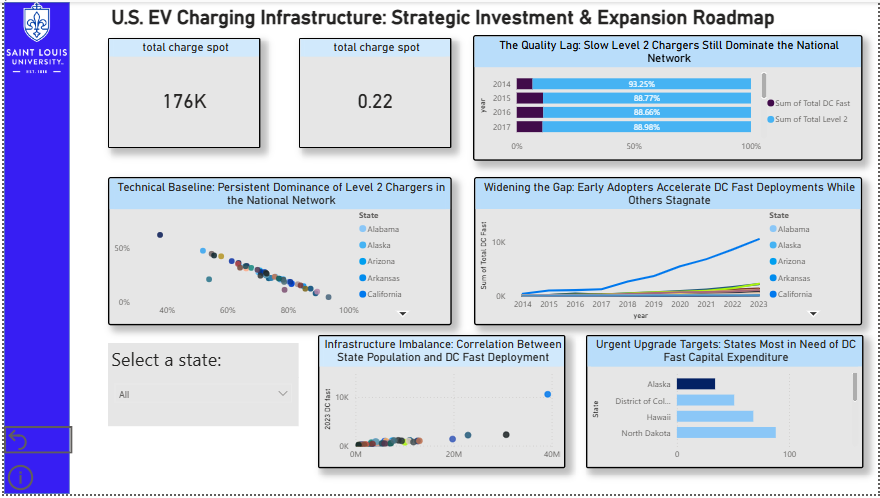

Layout of this report page (visuals, bound fields, positions):
{"tool":"powerbi","page":{"name":"Dashboard","canvas":[1280,720],"ordinal":1},"visuals":[{"type":"hundredPercentStackedBarChart","title":"The Quality Lag: Slow Level 2 Chargers Still Dominate the National Network","fields":{"Category":["RQ2_Tech_Evolution_Table.year"],"Y":["Sum(RQ2_Tech_Evolution_Table.Total DC Fast)","Sum(RQ2_Tech_Evolution_Table.Total Level 2)"]},"box":[685.9,48,569.8,184.3],"z":0},{"type":"lineChart","title":"Widening the Gap: Early Adopters Accelerate DC Fast Deployments While Others Stagnate","fields":{"Category":["RQ2_Tech_Evolution_Table.year"],"Y":["Sum(RQ2_Tech_Evolution_Table.Total DC Fast)"],"Series":["RQ2_Tech_Evolution_Table.State"]},"box":[687.5,255.5,568.3,216.8],"z":1000},{"type":"clusteredBarChart","title":"Urgent Upgrade Targets: States Most in Need of DC Fast Capital Expenditure","fields":{"Category":["Q1_station.State"],"Y":["Sum(Q1_station.2023 DC fast)"]},"box":[851.6,487.7,405.7,195.1],"z":2000},{"type":"textbox","box":[152,0,984,48],"z":3000},{"type":"shape","box":[0,0,96,720],"z":4000},{"type":"image","box":[0,0,96,104],"z":5000},{"type":"actionButton","box":[0,620.9,100.2,40.3],"z":6000},{"type":"actionButton","box":[0,671.6,95.6,48.4],"z":7000},{"type":"card","title":"total charge spot","fields":{"Values":["Q1_station.Measure"]},"box":[151.7,52.6,223,161],"z":8000},{"type":"scatterChart","title":"Technical Baseline: Persistent Dominance of Level 2 Chargers in the National Network","fields":{"X":["Q1_station.ratio_of_Lv2"],"Y":["Q1_station.ratio_of_DC"],"Series":["Q1_station.State"]},"box":[151.7,255.5,503.2,216.8],"z":9000},{"type":"card","title":"total charge spot","fields":{"Values":["NST-EST2025-POP.Ratio2023_fast"]},"box":[432,52.6,223,161],"z":10000},{"type":"scatterChart","title":"Infrastructure Imbalance: Correlation Between State Population and DC Fast Deployment","fields":{"X":["Sum(NST-EST2025-POP.2023)"],"Y":["Q1_station.2023 DC fast"],"Series":["Q1_station.State"]},"box":[459,487,362,195],"z":11000},{"type":"textbox","box":[152,499,279,51],"z":14000},{"type":"slicer","fields":{"Values":["NST-EST2025-POP.State"]},"box":[152,549,279,72],"z":15000}]}

Visuals, with their boxes in screenshot pixels (x1, y1, x2, y2), scaled from the page's 1280x720 canvas onto the 880x498 screenshot:
"The Quality Lag: Slow Level 2 Chargers Still Dominate the National Network" hundredPercentStackedBarChart: 472 33 863 161
"Widening the Gap: Early Adopters Accelerate DC Fast Deployments While Others Stagnate" lineChart: 473 177 863 327
"Urgent Upgrade Targets: States Most in Need of DC Fast Capital Expenditure" clusteredBarChart: 585 337 864 472
textbox: 104 0 781 33
shape: 0 0 66 497
image: 0 0 66 72
actionButton: 0 429 69 457
actionButton: 0 465 66 497
"total charge spot" card: 104 36 258 148
"Technical Baseline: Persistent Dominance of Level 2 Chargers in the National Network" scatterChart: 104 177 450 327
"total charge spot" card: 297 36 450 148
"Infrastructure Imbalance: Correlation Between State Population and DC Fast Deployment" scatterChart: 316 337 564 472
textbox: 104 345 296 380
slicer - NST-EST2025-POP.State: 104 380 296 430
